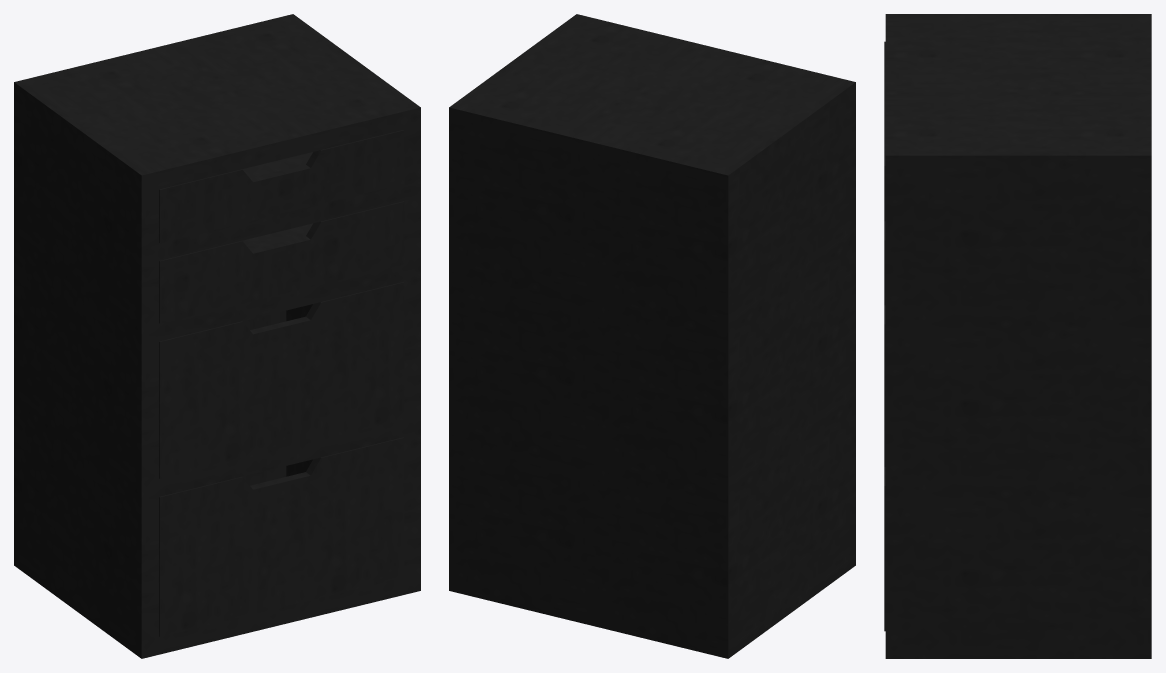
Rendered from Drawer20.fbx.
3 views of the same model, side by side, from view 1: azimuth 30°, elevation 25°; view 2: azimuth 150°, elevation 25°; view 3: azimuth 270°, elevation 25° (orthographic). The views are drawn at different scales.
Visible parts, largest first — view 1: Drawer20_Body, Drawer20_4, Drawer20_3, Drawer20_2, Drawer20_1; view 2: Drawer20_Body; view 3: Drawer20_Body.
Boxes of the visible parts, x1=… form: Drawer20_Body: x1=14, y1=14, x2=420, y2=658; Drawer20_4: x1=159, y1=437, x2=404, y2=636; Drawer20_3: x1=159, y1=282, x2=404, y2=478; Drawer20_2: x1=159, y1=201, x2=404, y2=323; Drawer20_1: x1=159, y1=130, x2=404, y2=242; Drawer20_Body: x1=449, y1=14, x2=855, y2=658; Drawer20_Body: x1=885, y1=14, x2=1151, y2=658.
Size of the model in its own units: 35.36 by 58.51 by 28.16.
